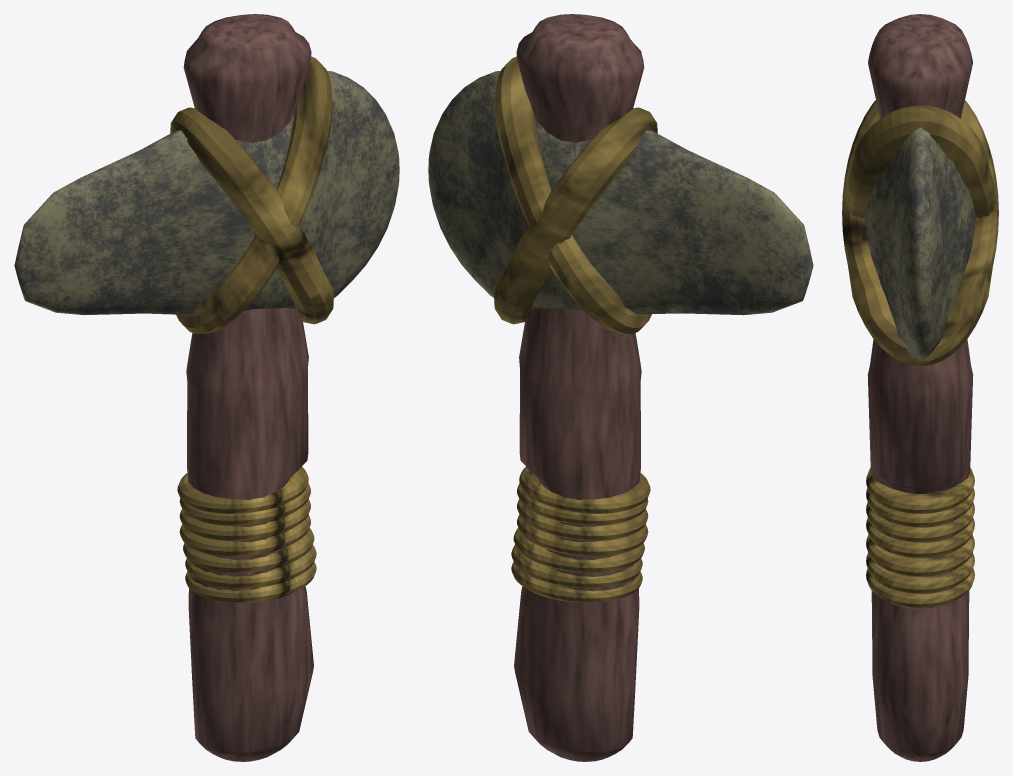
Rendered from StoneAxe.fbx.
The picture shows the model from 3 angles, left to right: view 1: azimuth 30°, elevation 25°; view 2: azimuth 150°, elevation 25°; view 3: azimuth 270°, elevation 25°; orthographic projection.
Visible parts, largest first — view 1: axe-handle, axe-blade, string.001; view 2: axe-handle, axe-blade, string.001; view 3: axe-handle, string.001, axe-blade.
Boxes of the visible parts, x1,y1,x2,y2 form: axe-handle: [183, 14, 313, 761]; axe-blade: [14, 71, 399, 315]; string.001: [170, 56, 333, 602]; axe-handle: [514, 14, 644, 761]; axe-blade: [428, 71, 813, 315]; string.001: [494, 56, 657, 602]; axe-handle: [867, 14, 973, 761]; string.001: [842, 100, 998, 608]; axe-blade: [864, 127, 976, 360].
Size of the model in its own units: 161 by 292 by 57.1.
